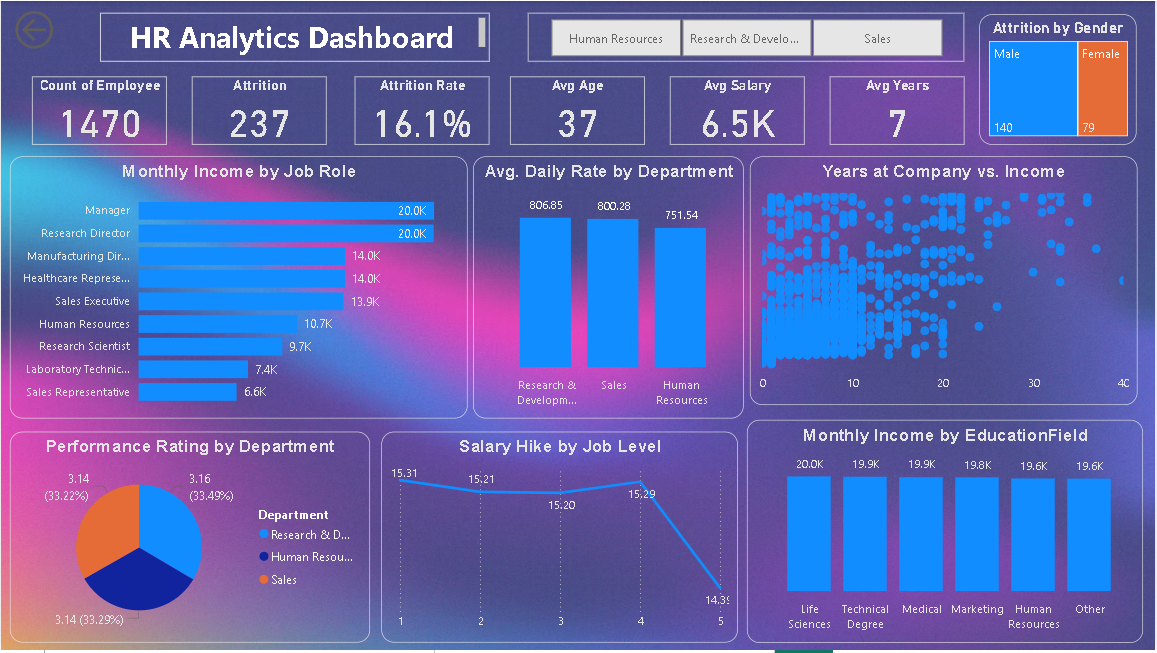

The page's visual inventory and layout, read from the dashboard file:
{"tool":"powerbi","page":{"name":"Performance, Salary, and Attrition","canvas":[1280,720],"ordinal":1},"visuals":[{"type":"card","title":"Count of Employee","fields":{"Values":["CountNonNull(HR_Analytics.EmpID)"]},"box":[35.3,84,149.5,75.6],"z":0},{"type":"card","title":"Attrition","fields":{"Values":["Sum(HR_Analytics.AttritionCount)"]},"box":[211.7,84,149.5,75.6],"z":1000},{"type":"card","title":"Attrition Rate","fields":{"Values":["HR_Analytics.AttritionRate"]},"box":[391.4,84,149.5,75.6],"z":2000},{"type":"card","title":"Avg Age","fields":{"Values":["Avg(HR_Analytics.Age)"]},"box":[564.4,84,149.5,75.6],"z":3000},{"type":"actionButton","box":[9.8,4.9,62.4,54.1],"z":4000},{"type":"card","title":"Avg Salary","fields":{"Values":["Avg(HR_Analytics.MonthlyIncome)"]},"box":[742.5,84,149.5,75.6],"z":5000},{"type":"card","title":"Avg Years","fields":{"Values":["Avg(HR_Analytics.YearsAtCompany)"]},"box":[918.8,84,149.5,75.6],"z":6000},{"type":"treemap","title":"Attrition by Gender","fields":{"Group":["HR_Analytics.Gender"],"Values":["Sum(HR_Analytics.AttritionCount)"]},"box":[1085,14.1,174,144.3],"z":7000},{"type":"slicer","fields":{"Values":["HR_Analytics.Department"]},"box":[584.2,13.1,484.1,54.2],"z":8000},{"type":"textbox","box":[109.9,13.1,431.6,54.1],"z":9000},{"type":"clusteredBarChart","title":"Monthly Income by Job Role","fields":{"Category":["HR_Analytics.JobRole"],"Y":["Max(HR_Analytics.MonthlyIncome)"]},"box":[9.5,173,507.5,290.8],"z":9001},{"type":"clusteredColumnChart","title":"Monthly Income by EducationField","fields":{"Category":["HR_Analytics.EducationField"],"Y":["Max(HR_Analytics.MonthlyIncome)"]},"box":[826.9,463.8,439.1,247.1],"z":9002},{"type":"pieChart","title":"Performance Rating by Department","fields":{"Category":["HR_Analytics.Department"],"Y":["Avg(HR_Analytics.PerformanceRating)"]},"box":[9.5,477.1,399.2,233.8],"z":9003},{"type":"scatterChart","title":"Years at Company vs. Income","fields":{"X":["HR_Analytics.YearsAtCompany"],"Y":["HR_Analytics.MonthlyIncome"]},"box":[830.7,173,429.6,275.6],"z":9004},{"type":"lineChart","title":"Salary Hike by Job Level","fields":{"Y":["Avg(HR_Analytics.PercentSalaryHike)"],"Category":["HR_Analytics.JobLevel"]},"box":[422,477.1,395.4,233.8],"z":9005},{"type":"clusteredColumnChart","title":"Avg. Daily Rate by Department","fields":{"Category":["HR_Analytics.Department"],"Y":["Avg(HR_Analytics.DailyRate)"]},"box":[522.8,173,300.3,290.8],"z":9006}]}

Visuals, with their boxes in screenshot pixels (x1, y1, x2, y2), scaled from the page's 1280x720 canvas onto the 1157x653 screenshot:
"Count of Employee" card: 32, 76, 167, 145
"Attrition" card: 191, 76, 326, 145
"Attrition Rate" card: 354, 76, 489, 145
"Avg Age" card: 510, 76, 645, 145
actionButton: 9, 4, 65, 54
"Avg Salary" card: 671, 76, 806, 145
"Avg Years" card: 831, 76, 966, 145
"Attrition by Gender" treemap: 981, 13, 1138, 144
slicer - HR_Analytics.Department: 528, 12, 966, 61
textbox: 99, 12, 489, 61
"Monthly Income by Job Role" clusteredBarChart: 9, 157, 467, 421
"Monthly Income by EducationField" clusteredColumnChart: 747, 421, 1144, 645
"Performance Rating by Department" pieChart: 9, 433, 369, 645
"Years at Company vs. Income" scatterChart: 751, 157, 1139, 407
"Salary Hike by Job Level" lineChart: 381, 433, 739, 645
"Avg. Daily Rate by Department" clusteredColumnChart: 473, 157, 744, 421
